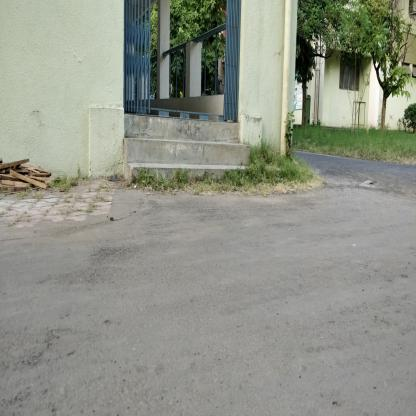stairs: (137, 121, 239, 198)
